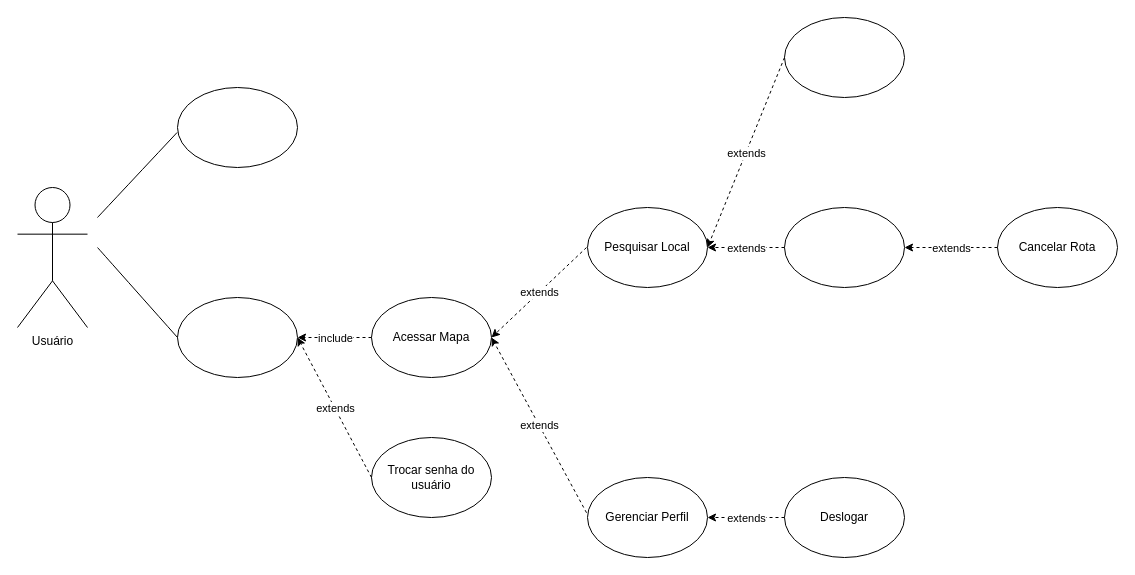
The diagram is 1135 pixels wide and 575 high, and some of its shapes have lost their labels. The centre of each missing label's shape, as x and y in pixels:
"Fazer Cadastro" belongs at pixel 237 127.
"Fazer Login" belongs at pixel 237 337.
"Retornar ao Mapa" belongs at pixel 844 57.
"Visualizar Rota" belongs at pixel 844 247.
